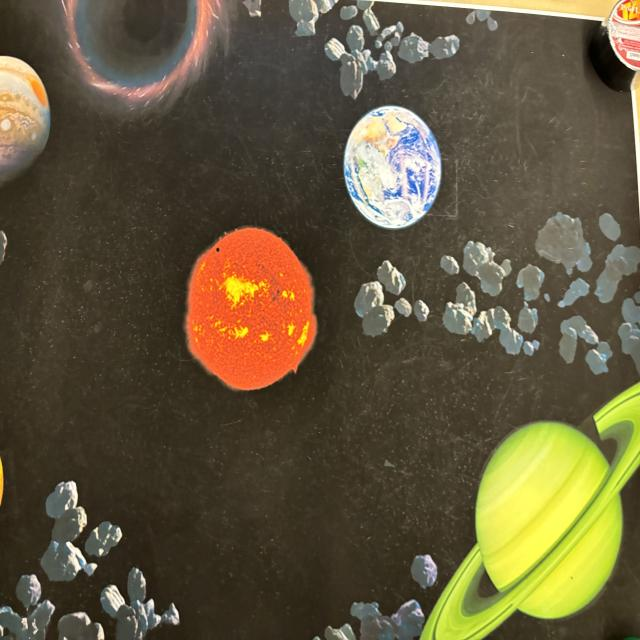Asteroids: (380, 214, 640, 359), (4, 508, 166, 640), (250, 0, 483, 91), (318, 564, 436, 640)
Black Hole: (59, 0, 230, 97)
Earth: (345, 102, 441, 230)
Jupiter: (0, 50, 50, 192)
Saturn: (427, 380, 640, 640)
Sun: (184, 218, 315, 397)
